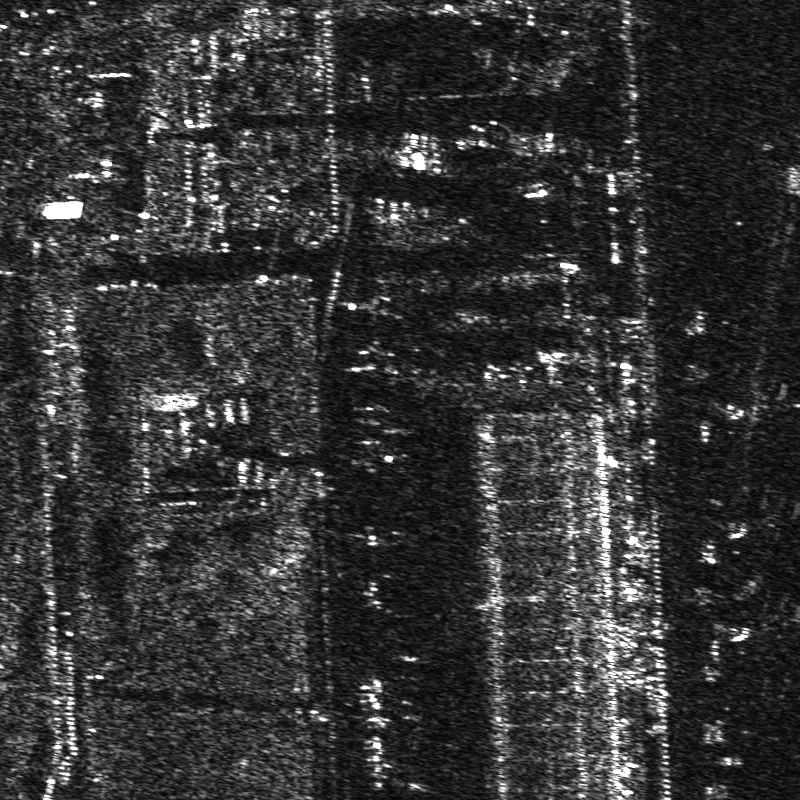A320/321: (707, 593, 799, 665), (722, 486, 799, 550)
Boeing737: (714, 376, 799, 449)
